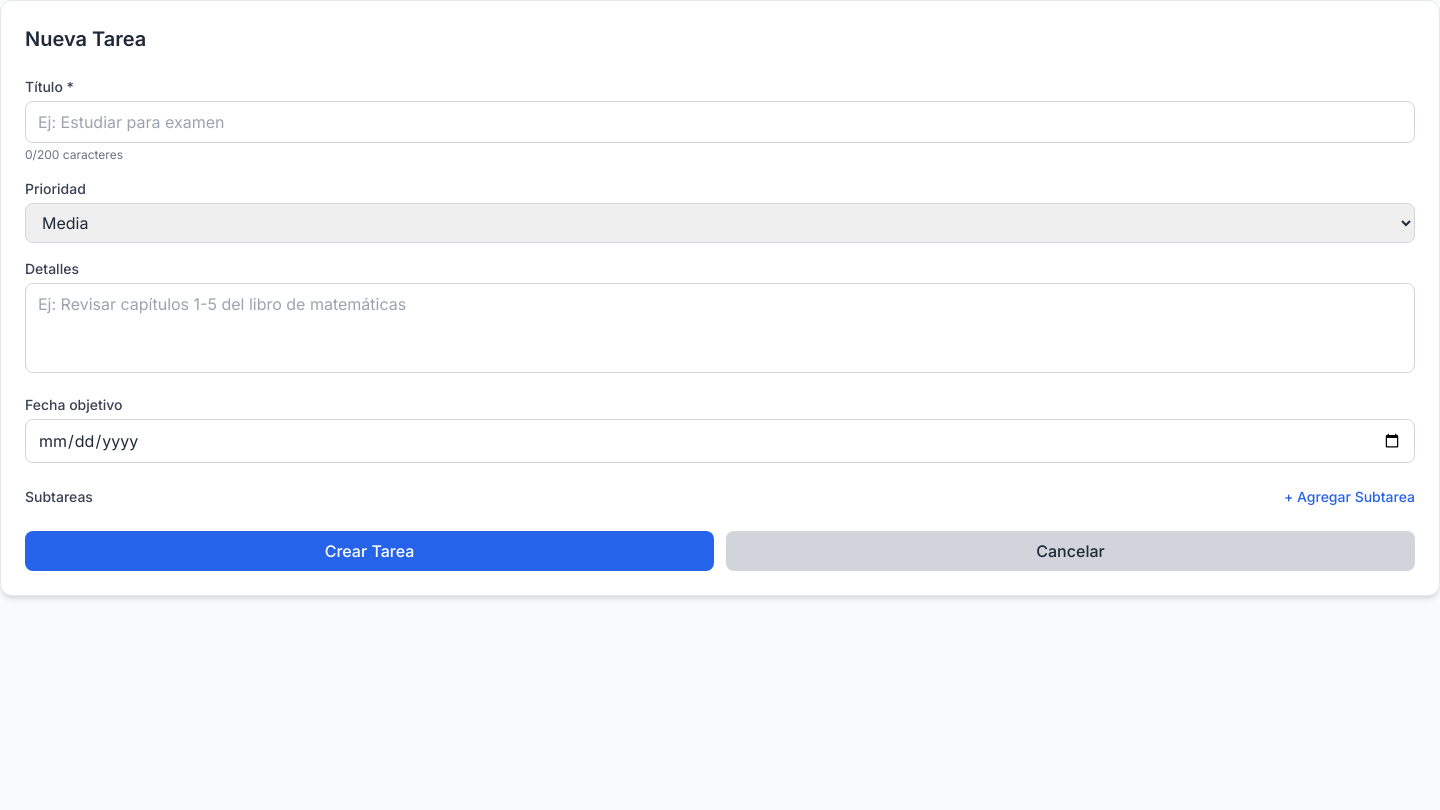
it: TaskForm Component › Subtask Management › should support multiple subtasks
Click the button "+ Agregar Subtarea": (1349, 497) [1284,487,1415,507]
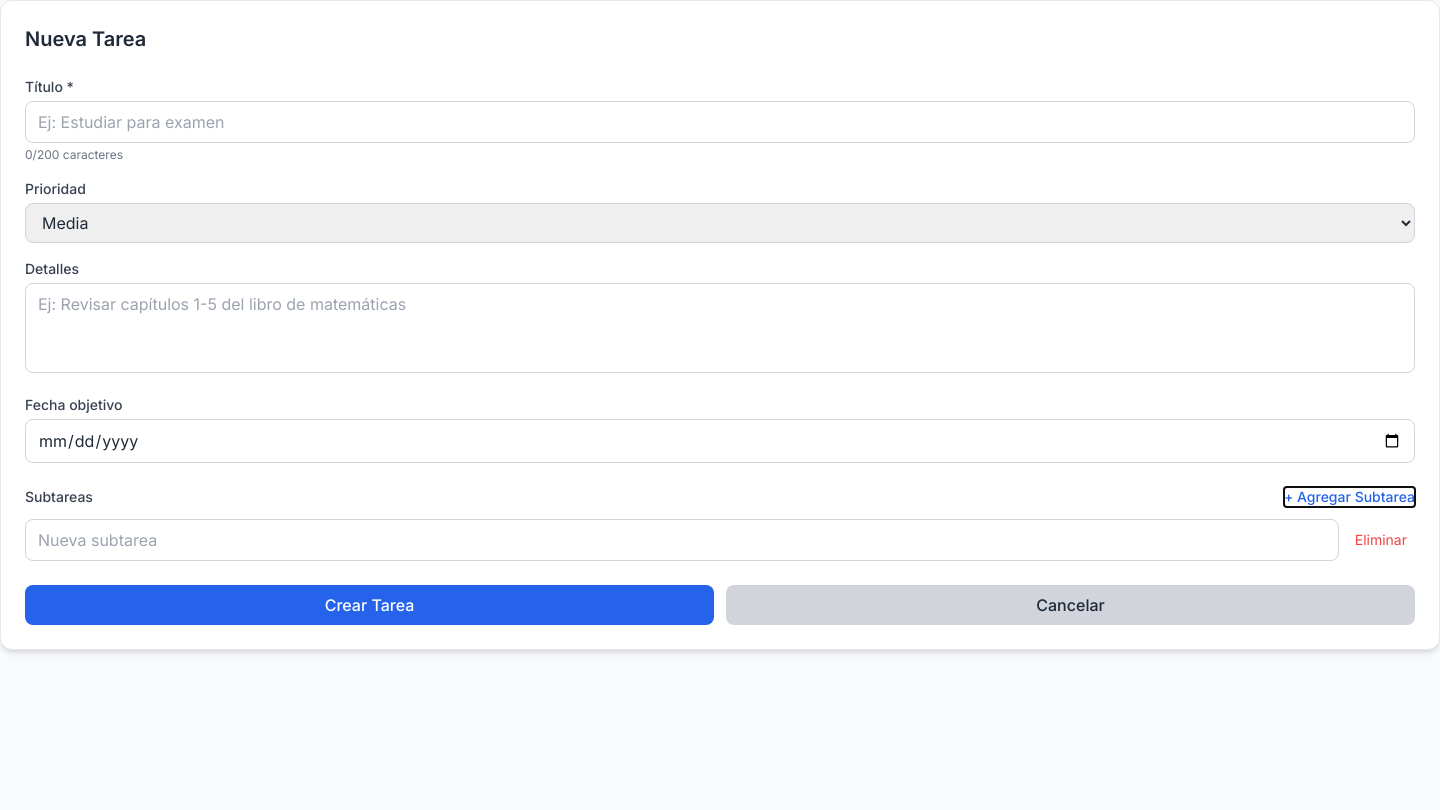
Click the button "+ Agregar Subtarea": (1349, 497) [1284,487,1415,507]
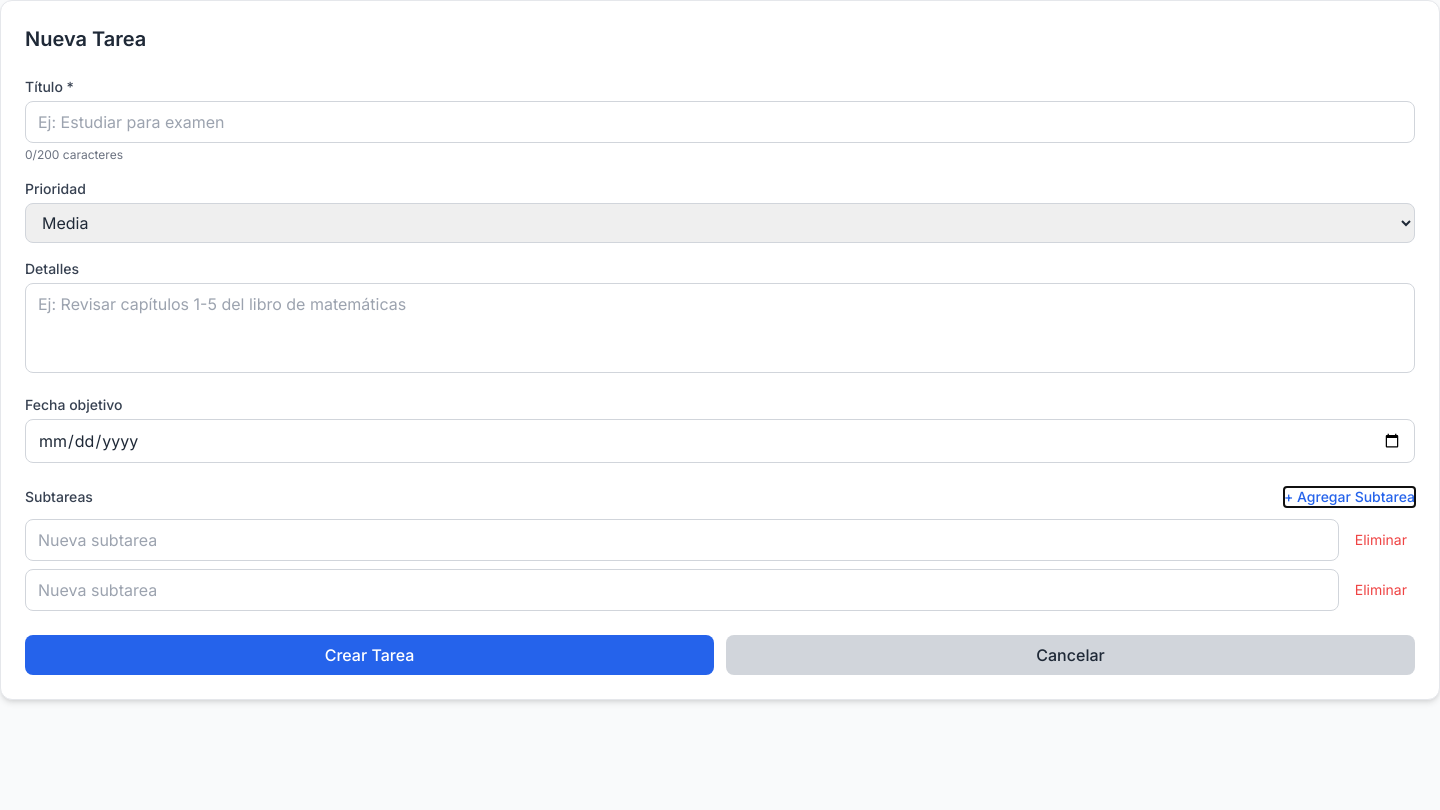
Expected: the number of fields with placeholder "Nueva subtarea" is 2, [25,519,1339,561]; [25,569,1339,611]
